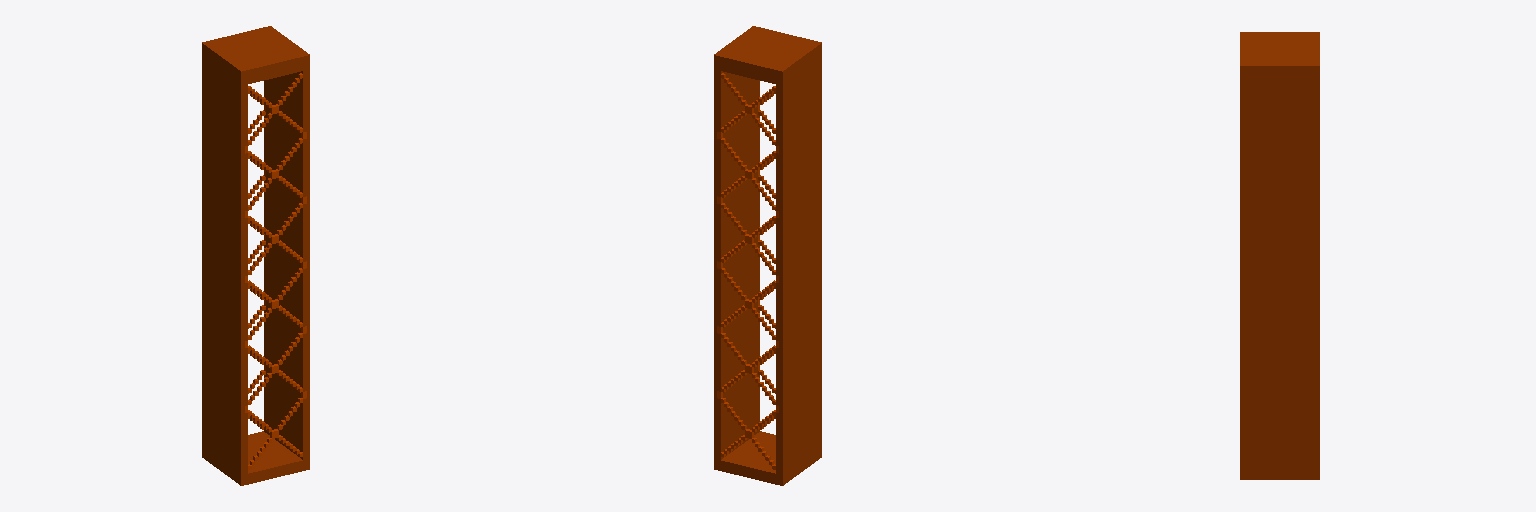
3 renders of one model, left to right at view 1: azimuth 30°, elevation 25°; view 2: azimuth 150°, elevation 25°; view 3: azimuth 270°, elevation 25°, orthographic.
Bounding box in the file's own units: 20 × 115 × 20.
Materials: 1 (1 with a texture image).